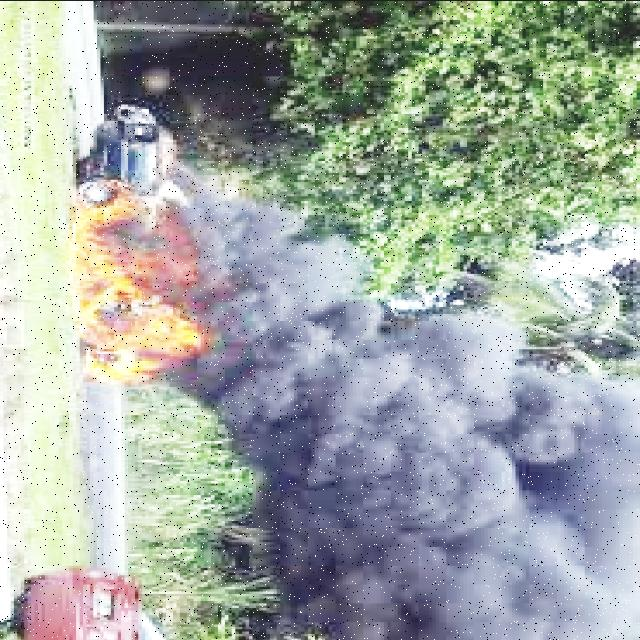api: (71, 177, 230, 394)
